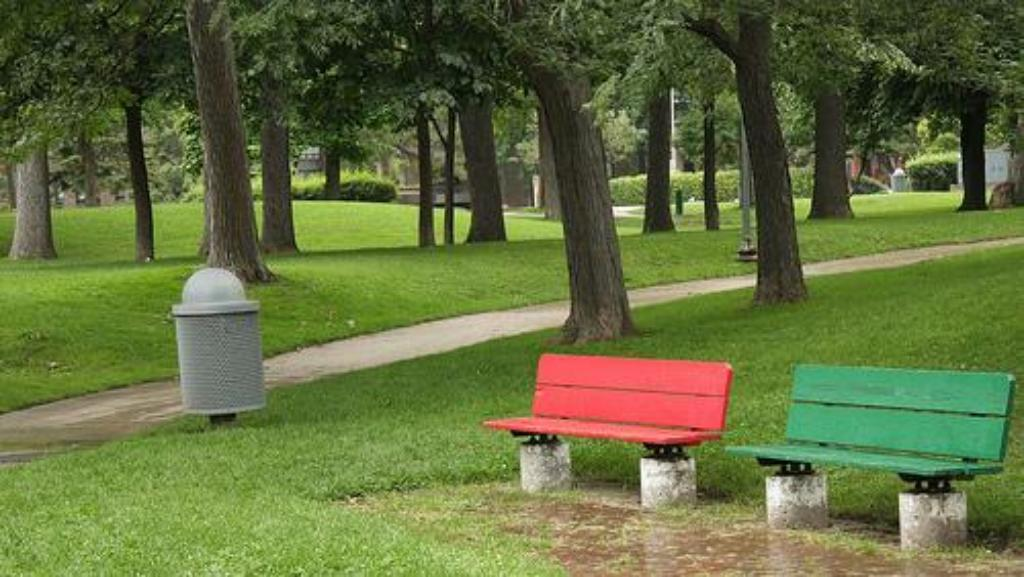dustbin: (156, 256, 293, 452)
